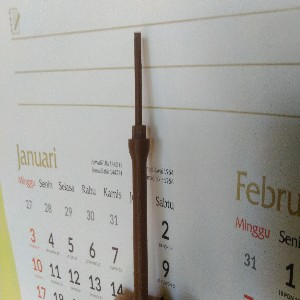obeng: (127, 31, 151, 300)
